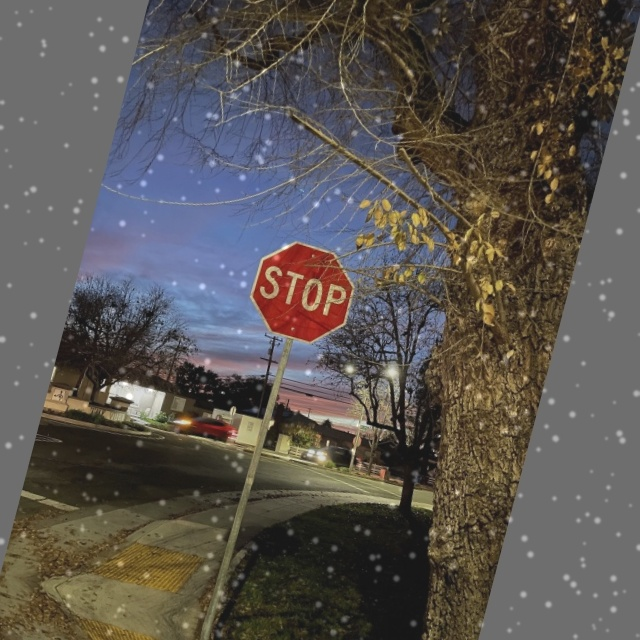Stop: (241, 235, 362, 353)
